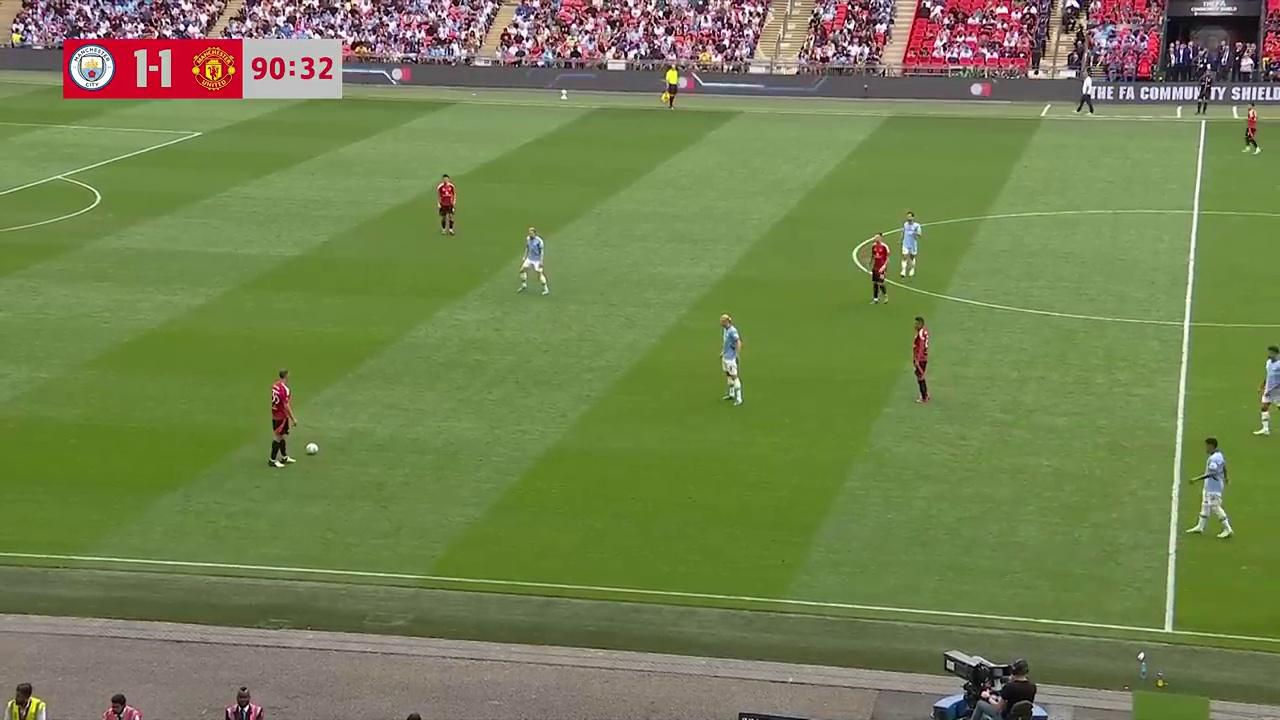ball: (304, 439, 319, 455)
player: (1188, 436, 1234, 539), (268, 370, 299, 467), (517, 226, 550, 295), (718, 314, 743, 405), (1254, 345, 1279, 435), (866, 233, 890, 304), (898, 211, 922, 279), (912, 316, 930, 402), (436, 173, 457, 236), (1242, 105, 1260, 154)
referee: (662, 68, 679, 111)
